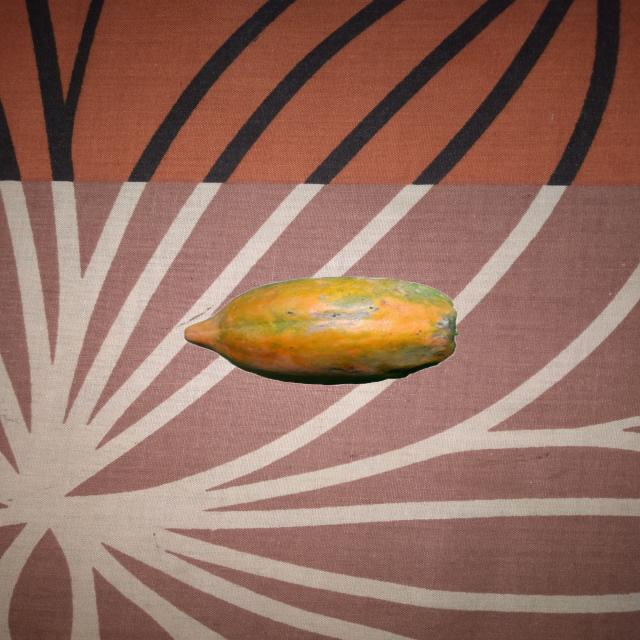Pepaya rippen: (182, 273, 460, 390)
